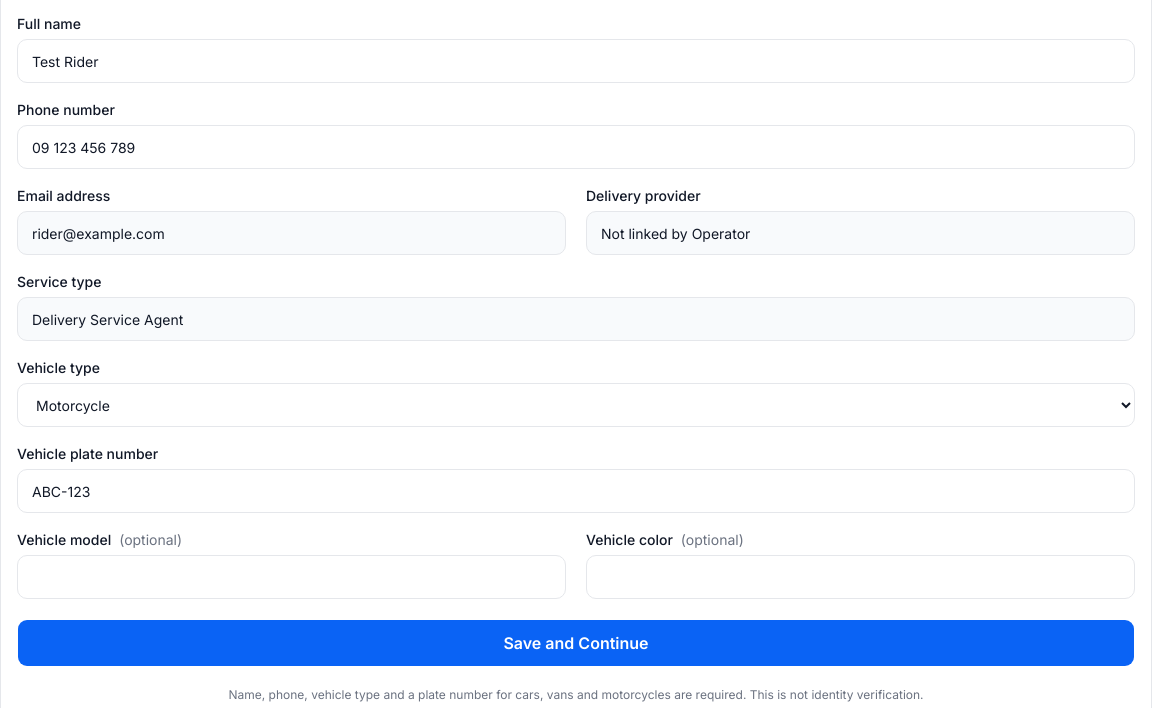
Test case: does not redirect while provider membership is still missing
This screenshot has width=1152, height=708.
(page scrolled)
Expected: the field labelled "Full name" is shown, [17,39,1135,83]
Click the button "Save and Continue" at (576, 643), box [17,619,1135,667]
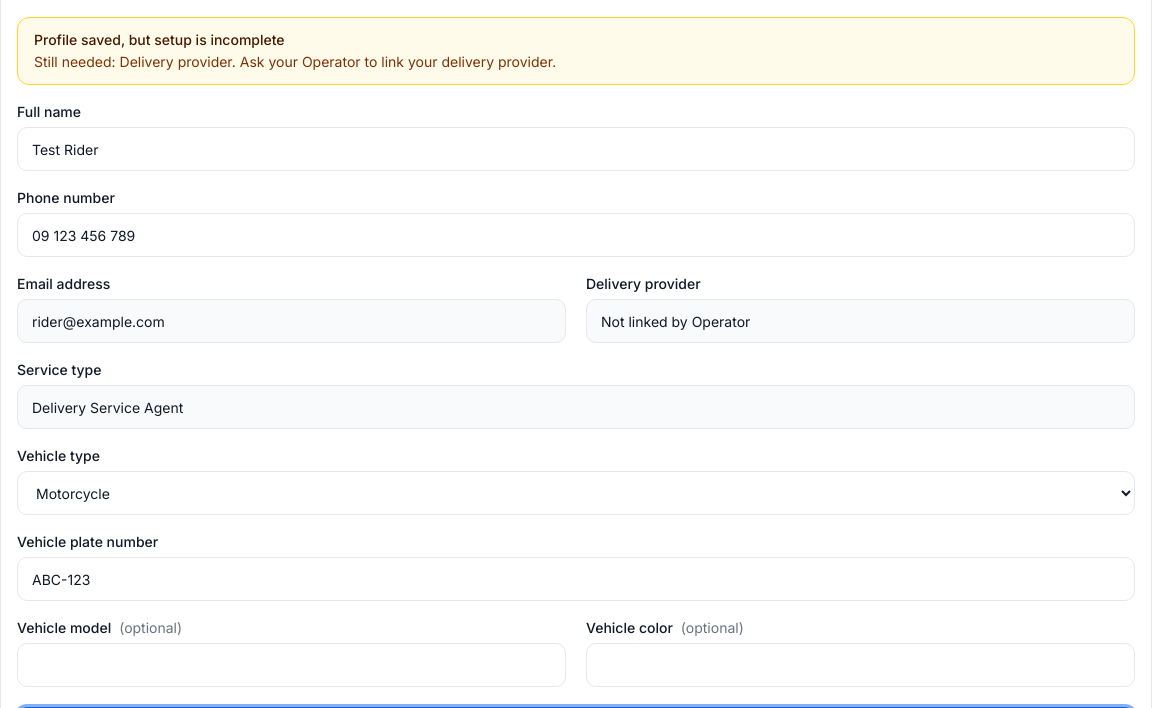
Expected: the text "Profile saved, but setup is incomplete" is shown, [34,31,285,48]
